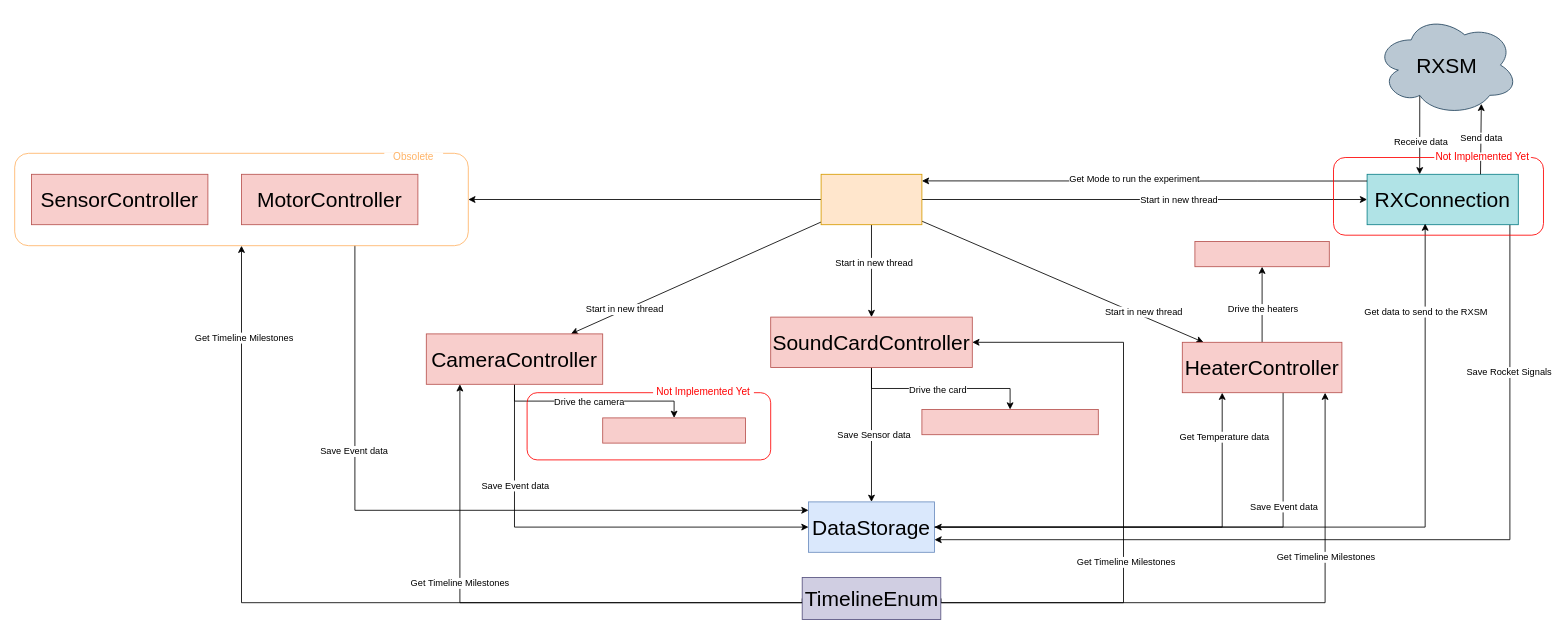
Image size: 1566x634. Some labels were removed from this diagram. The centre of each missing label's shape, as x and y in pixels:
"camera_driver" goes at point (674, 430).
"heater_driver" goes at point (1261, 254).
"main" goes at point (871, 199).
"sound_card_driver" goes at point (1009, 422).
